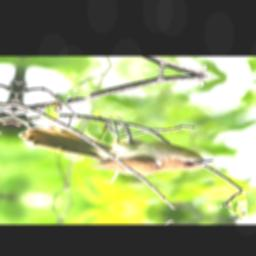Cuckoo: (12, 107, 220, 183)
